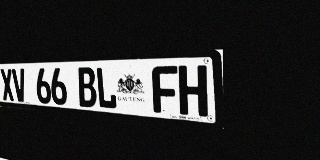6: (49, 68, 68, 105), (34, 68, 52, 104)
B: (77, 67, 97, 108)
F: (152, 66, 179, 114)
H: (178, 65, 208, 117)
L: (95, 67, 117, 109)
V: (12, 68, 27, 102)
X: (0, 69, 15, 101)
